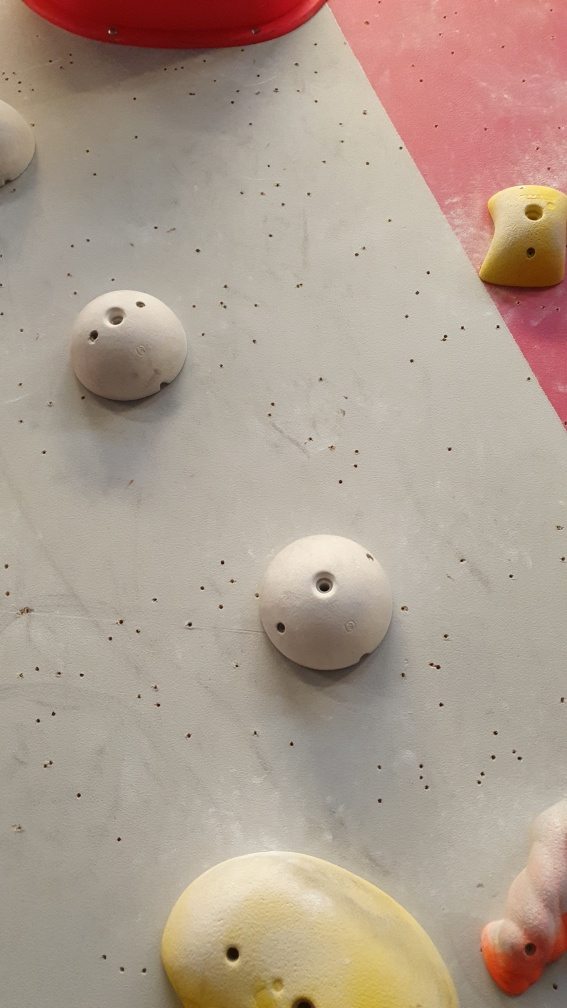Jug: (480, 798, 566, 999)
Pinch: (480, 174, 564, 293)
Sloper: (263, 531, 399, 675), (71, 289, 189, 406)
